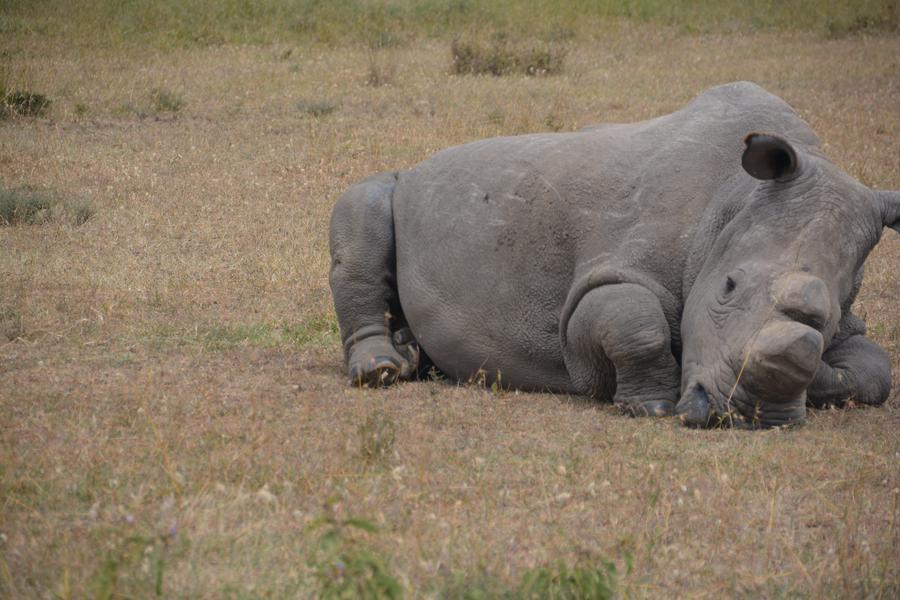rhino: (354, 94, 870, 421)
